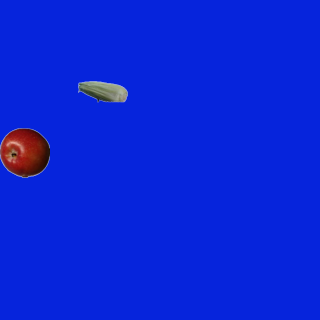Apple Braeburn: (0, 127, 49, 177)
Corn Husk: (77, 66, 127, 116)
